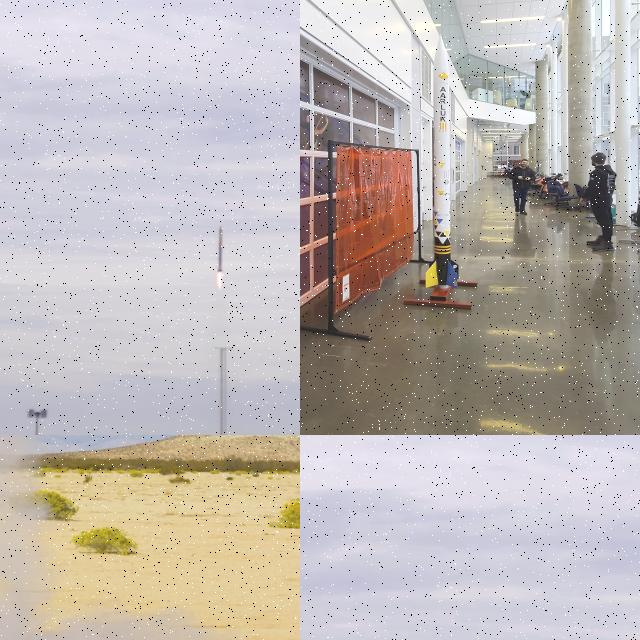Rocket: (425, 34, 459, 289), (216, 225, 224, 273)
